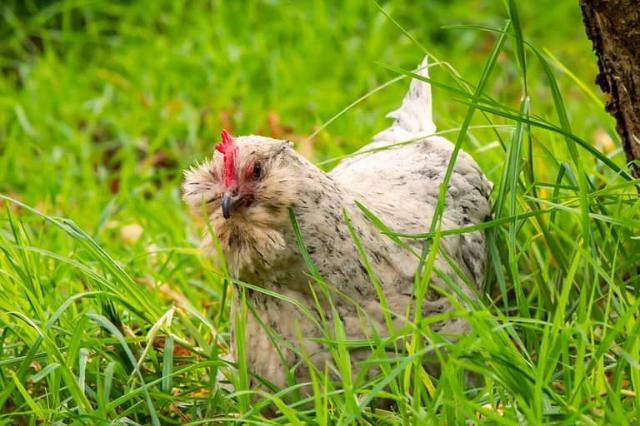Chicken: (181, 55, 494, 406)
